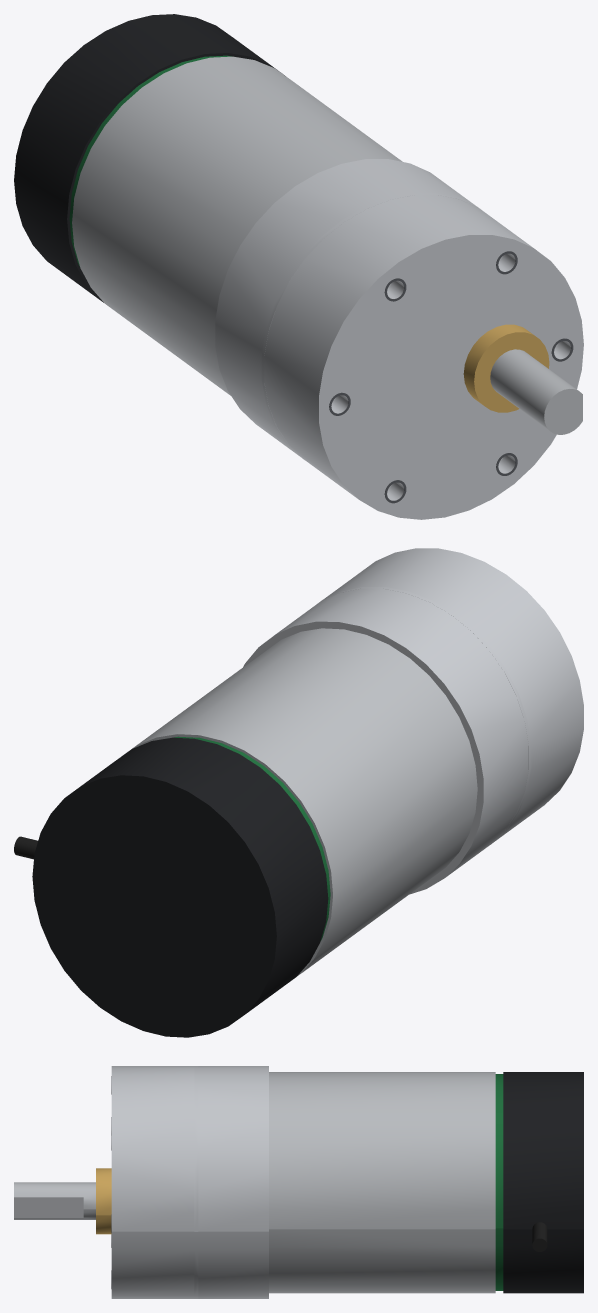
Rendered from dfrobot-fit0185-bb.glb.
The picture shows the model from 3 angles, top to bottom: view 1: azimuth 30°, elevation 25°; view 2: azimuth 150°, elevation 25°; view 3: azimuth 270°, elevation 25°; orthographic projection. The views are drawn at different scales.
Parts seen in each view (by area): view 1: gearbox, body, encoder_cap, shaft, bushing, encoder_board; view 2: encoder_cap, body, gearbox, encoder_board; view 3: body, gearbox, encoder_cap, shaft, encoder_board, bushing, encoder_cable.
Boxes of the visible parts, box(x1,y1,x2,y2) form: gearbox: box(215, 159, 583, 519); body: box(72, 56, 402, 395); encoder_cap: box(14, 14, 284, 302); shaft: box(490, 349, 582, 434); bushing: box(463, 324, 549, 412); encoder_board: box(69, 55, 231, 266); encoder_cap: box(32, 737, 328, 1037); body: box(122, 628, 477, 975); gearbox: box(243, 548, 583, 894); encoder_board: box(174, 736, 330, 941); body: box(269, 1072, 495, 1293); gearbox: box(111, 1066, 268, 1298); encoder_cap: box(503, 1072, 583, 1293); shaft: box(14, 1182, 95, 1219); encoder_board: box(495, 1074, 503, 1290); bushing: box(96, 1168, 111, 1234); encoder_cable: box(532, 1222, 547, 1251).
Size of the model in its own units: 42.01 by 36.98 by 90.5.
